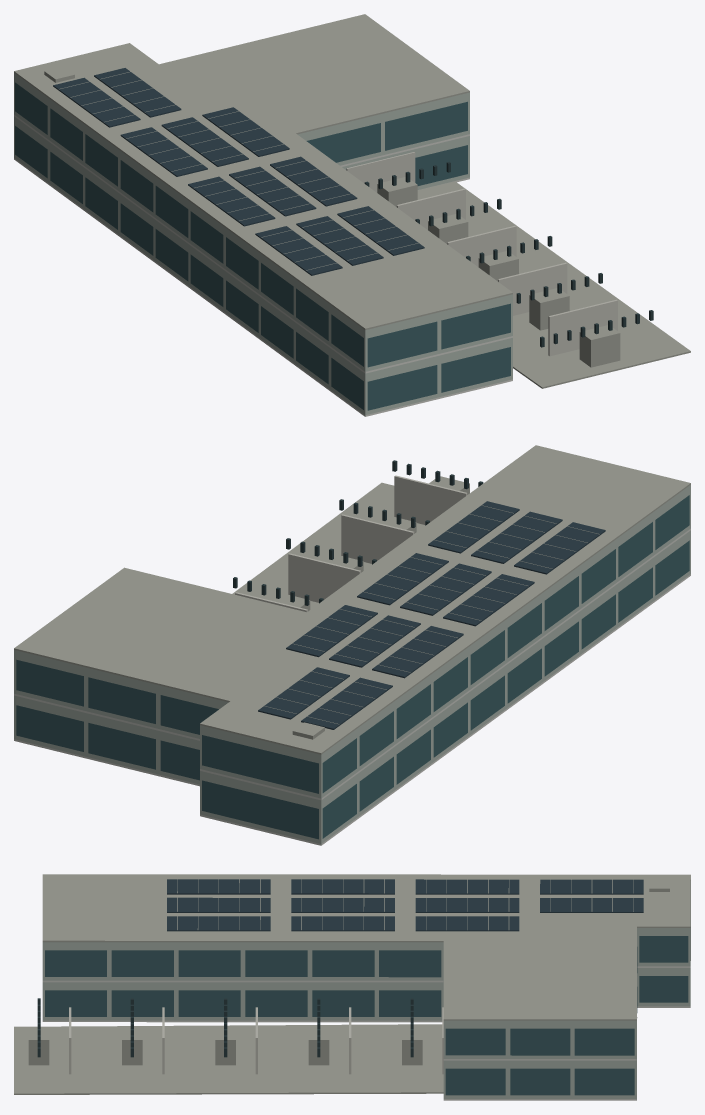
File: Mutiara-GIS-substation.glb
3 renders of one model, top to bottom at view 1: azimuth 30°, elevation 25°; view 2: azimuth 150°, elevation 25°; view 3: azimuth 270°, elevation 25°, orthographic. The views are drawn at different scales.
Visible parts, largest first — view 1: PMU 132/33kV GIS Mutiara Damansara — reviewed exterior, GIS Mutiara - outdoor transformer bays — reviewed exterior; view 2: PMU 132/33kV GIS Mutiara Damansara — reviewed exterior, GIS Mutiara - outdoor transformer bays — reviewed exterior; view 3: PMU 132/33kV GIS Mutiara Damansara — reviewed exterior, GIS Mutiara - outdoor transformer bays — reviewed exterior.
Part boxes in pixels (bbox=[...]): PMU 132/33kV GIS Mutiara Damansara — reviewed exterior: bbox=[14, 14, 512, 416]; GIS Mutiara - outdoor transformer bays — reviewed exterior: bbox=[346, 152, 690, 388]; PMU 132/33kV GIS Mutiara Damansara — reviewed exterior: bbox=[14, 445, 690, 845]; GIS Mutiara - outdoor transformer bays — reviewed exterior: bbox=[232, 460, 483, 612]; PMU 132/33kV GIS Mutiara Damansara — reviewed exterior: bbox=[42, 874, 690, 1100]; GIS Mutiara - outdoor transformer bays — reviewed exterior: bbox=[14, 998, 443, 1094].
Size of the model in its own units: 33.12 by 9 by 65.32.
